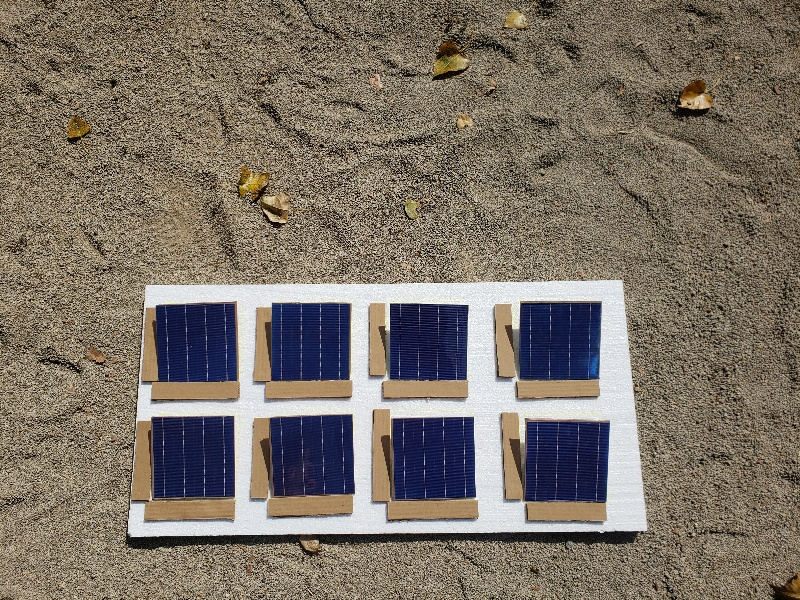clean: (385, 418, 480, 500), (267, 415, 355, 499), (151, 304, 240, 384), (148, 418, 235, 496), (388, 304, 469, 383), (529, 423, 609, 500), (519, 305, 602, 377), (275, 306, 353, 379)
